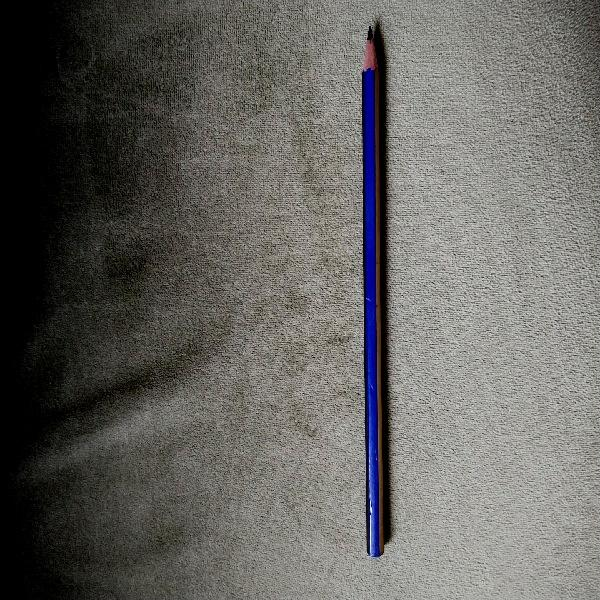pencil: (358, 23, 390, 566)
